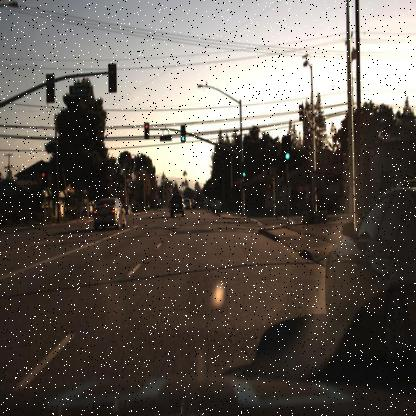car: (311, 168, 415, 378), (89, 193, 131, 240), (116, 193, 147, 227), (71, 199, 94, 220), (168, 195, 186, 219), (211, 197, 224, 216)
trafficLight-Green: (282, 134, 292, 164), (240, 156, 249, 184), (178, 125, 186, 147), (239, 168, 247, 181), (283, 150, 291, 162), (178, 132, 186, 143)
trafficLight-RedLeft: (143, 120, 151, 142), (142, 122, 150, 135), (42, 166, 47, 186), (40, 170, 45, 183)
